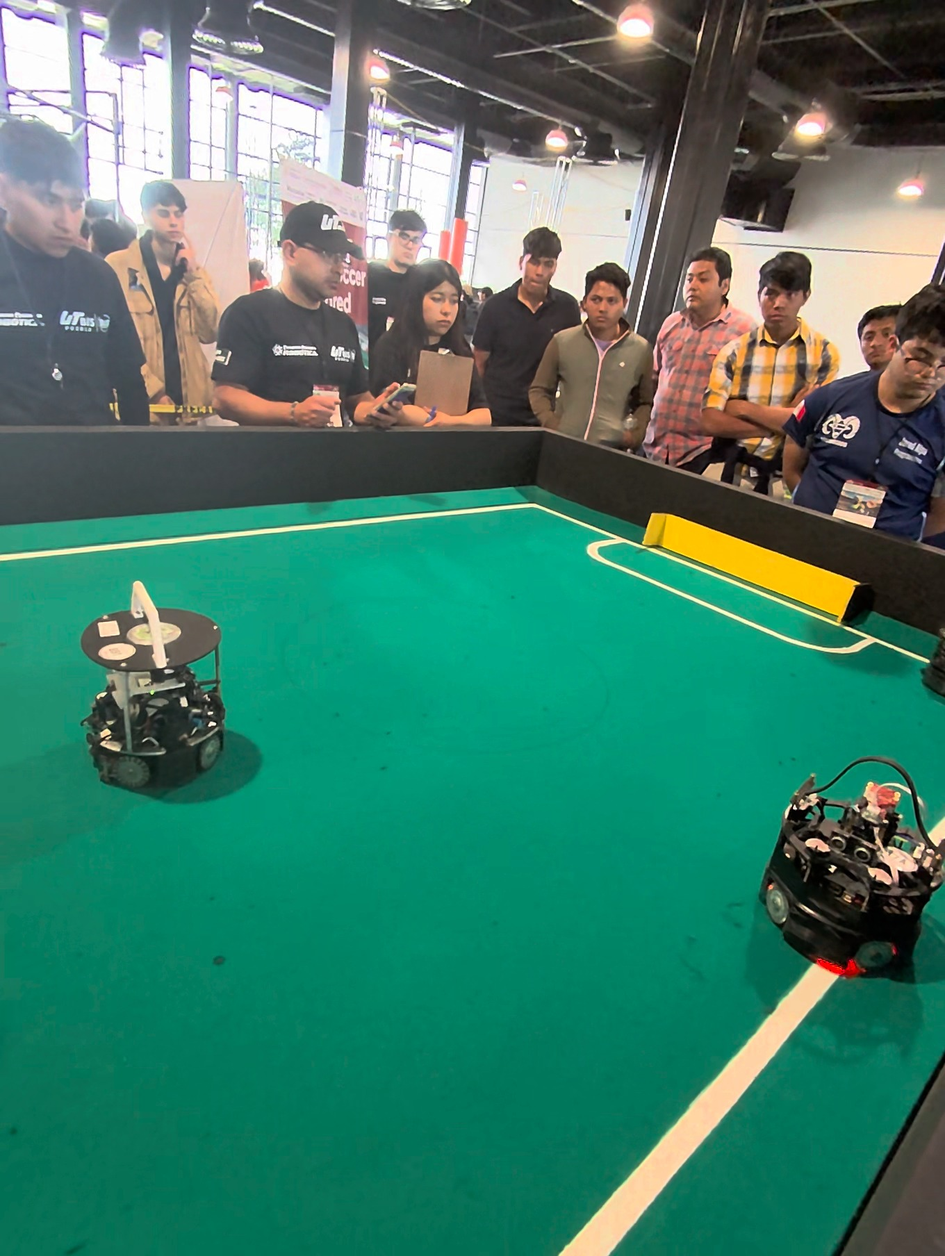Robot: (764, 740, 945, 992), (71, 583, 234, 810), (922, 617, 945, 709)
